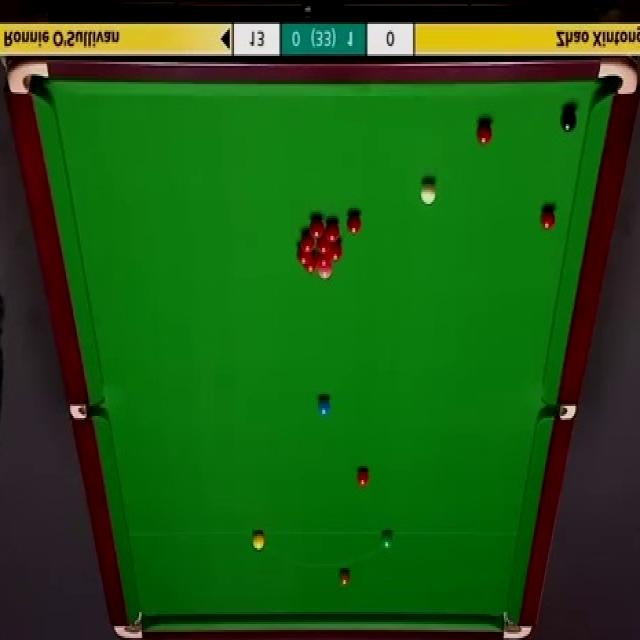black-ball: (561, 104, 578, 129)
blue-ball: (316, 394, 331, 418)
brown-ball: (338, 566, 351, 586)
green-ball: (379, 528, 395, 549)
pink-ball: (318, 268, 332, 279)
red-ball: (540, 203, 557, 229), (477, 122, 493, 145), (323, 220, 339, 243), (297, 242, 313, 264), (346, 212, 360, 233), (310, 222, 323, 243), (300, 232, 315, 250), (356, 467, 369, 486), (329, 242, 342, 260), (304, 258, 318, 272), (316, 253, 328, 269), (318, 241, 331, 255)
white-ball: (420, 181, 435, 203)
yellow-ball: (252, 530, 265, 550)
